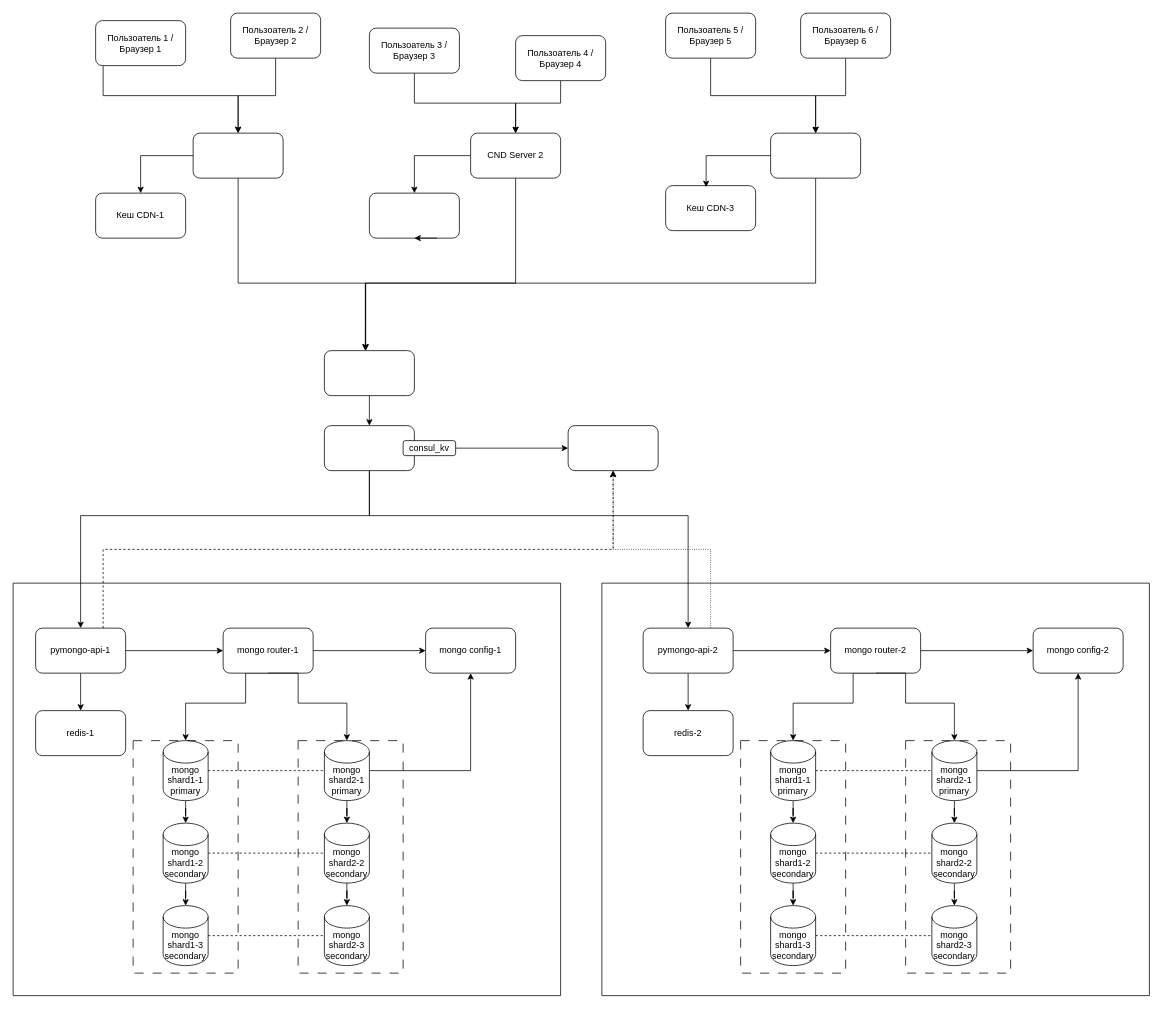
This 1163x1009 diagram has some shape labels left out. The shapes that lost their labels are listed below. From the top down, each one's box as (x1, y1, x2, y2) in pixels, then its label:
(192, 132, 283, 178): CDN Server 1
(770, 132, 861, 178): CDN Server 3
(369, 192, 459, 238): Кеш CDN-2
(324, 350, 414, 396): Сайт React / Nginx
(324, 425, 414, 471): APISIX Gateway
(567, 425, 658, 471): Service Registry Consul
